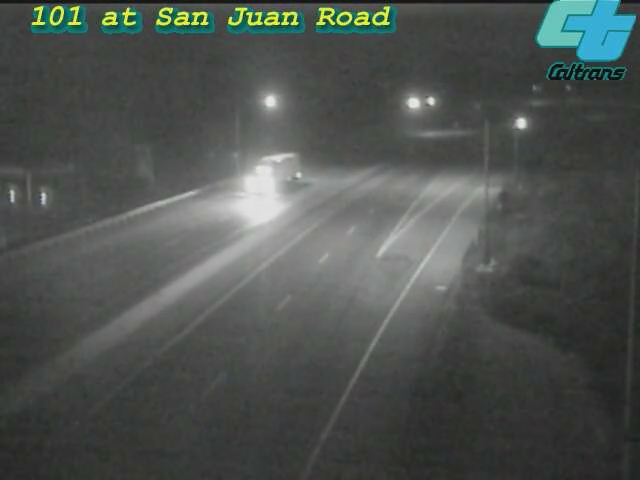vehicle: (230, 137, 310, 217), (494, 98, 544, 148)
